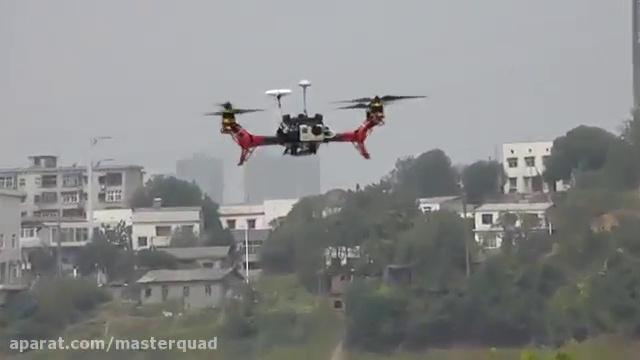drone: (197, 77, 427, 168)
